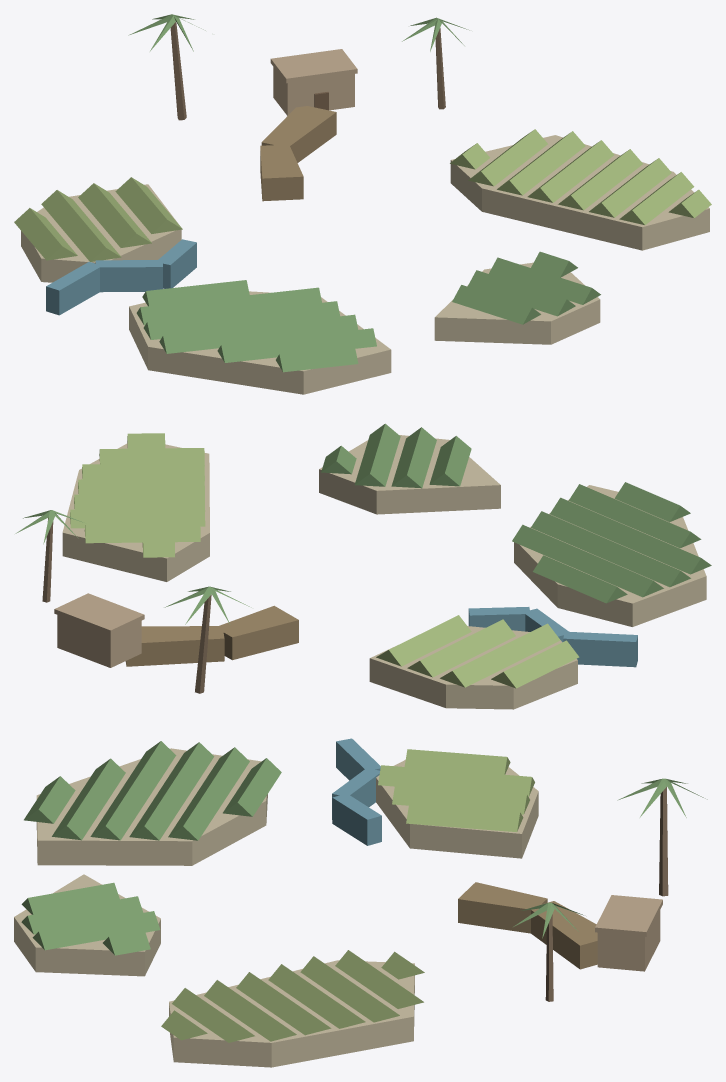
The model's file is farm-desert.glb.
The picture shows the model from 3 angles, top to bottom: view 1: azimuth 30°, elevation 25°; view 2: azimuth 150°, elevation 25°; view 3: azimuth 270°, elevation 25°; orthographic projection. The views are drawn at different scales.
Visible parts, largest first — view 1: LOD0; view 2: LOD0; view 3: LOD0.
Boxes of the visible parts, box(x1,y1,x2,y2) form: LOD0: box(14, 14, 711, 394); LOD0: box(15, 423, 711, 709); LOD0: box(14, 738, 707, 1067).
Size of what is drawn, in the model's own units: 1.64 by 0.32 by 1.59.
